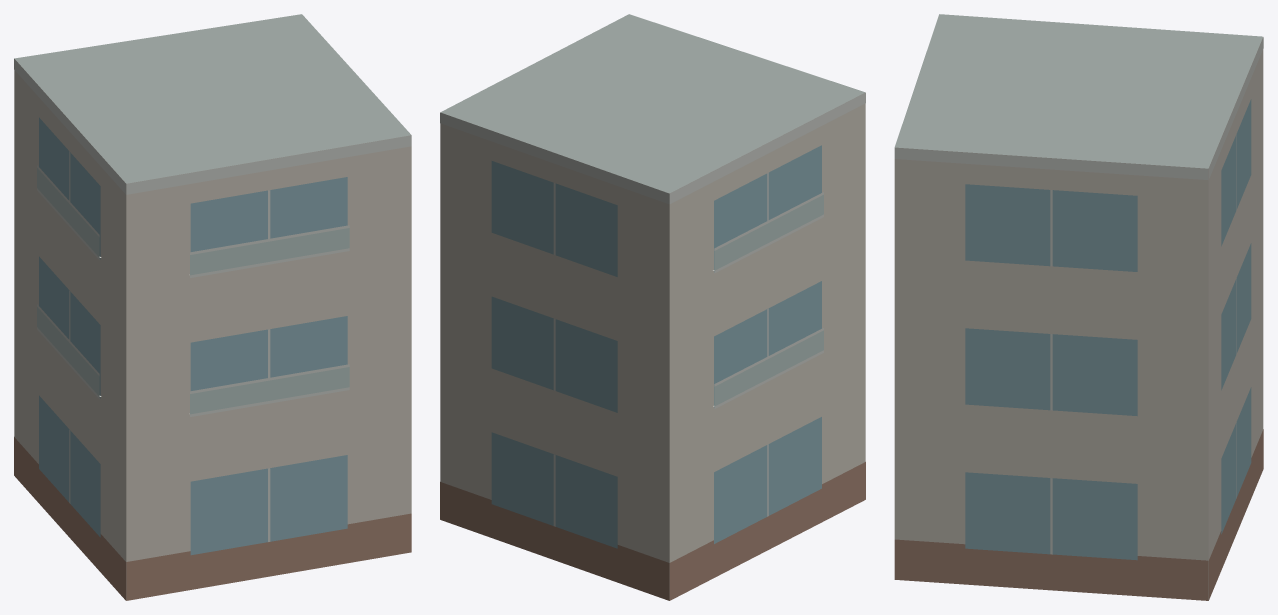
The model's file is survey-upis-32541032.glb.
3 renders of one model, left to right at view 1: azimuth 30°, elevation 25°; view 2: azimuth 150°, elevation 25°; view 3: azimuth 270°, elevation 25°, orthographic. The views are drawn at different scales.
Visible parts, largest first — view 1: survey-upis-32541032.tmp; view 2: survey-upis-32541032.tmp; view 3: survey-upis-32541032.tmp.
Boxes of the visible parts, left/top/right/bottom form: survey-upis-32541032.tmp: left=14, top=14, right=411, bottom=600; survey-upis-32541032.tmp: left=440, top=14, right=865, bottom=600; survey-upis-32541032.tmp: left=894, top=14, right=1263, bottom=600.
Bounding box in the file's own units: 7.03 × 9.15 × 7.09.
